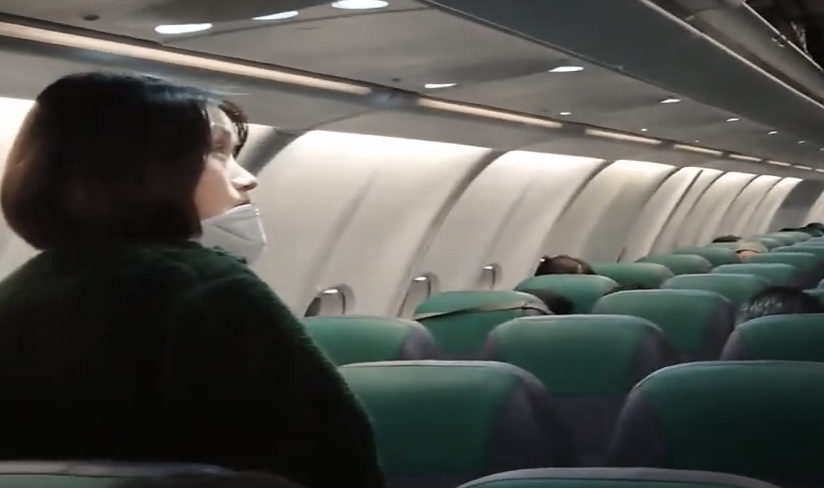mask_weared_incorrect: (106, 68, 271, 265)
